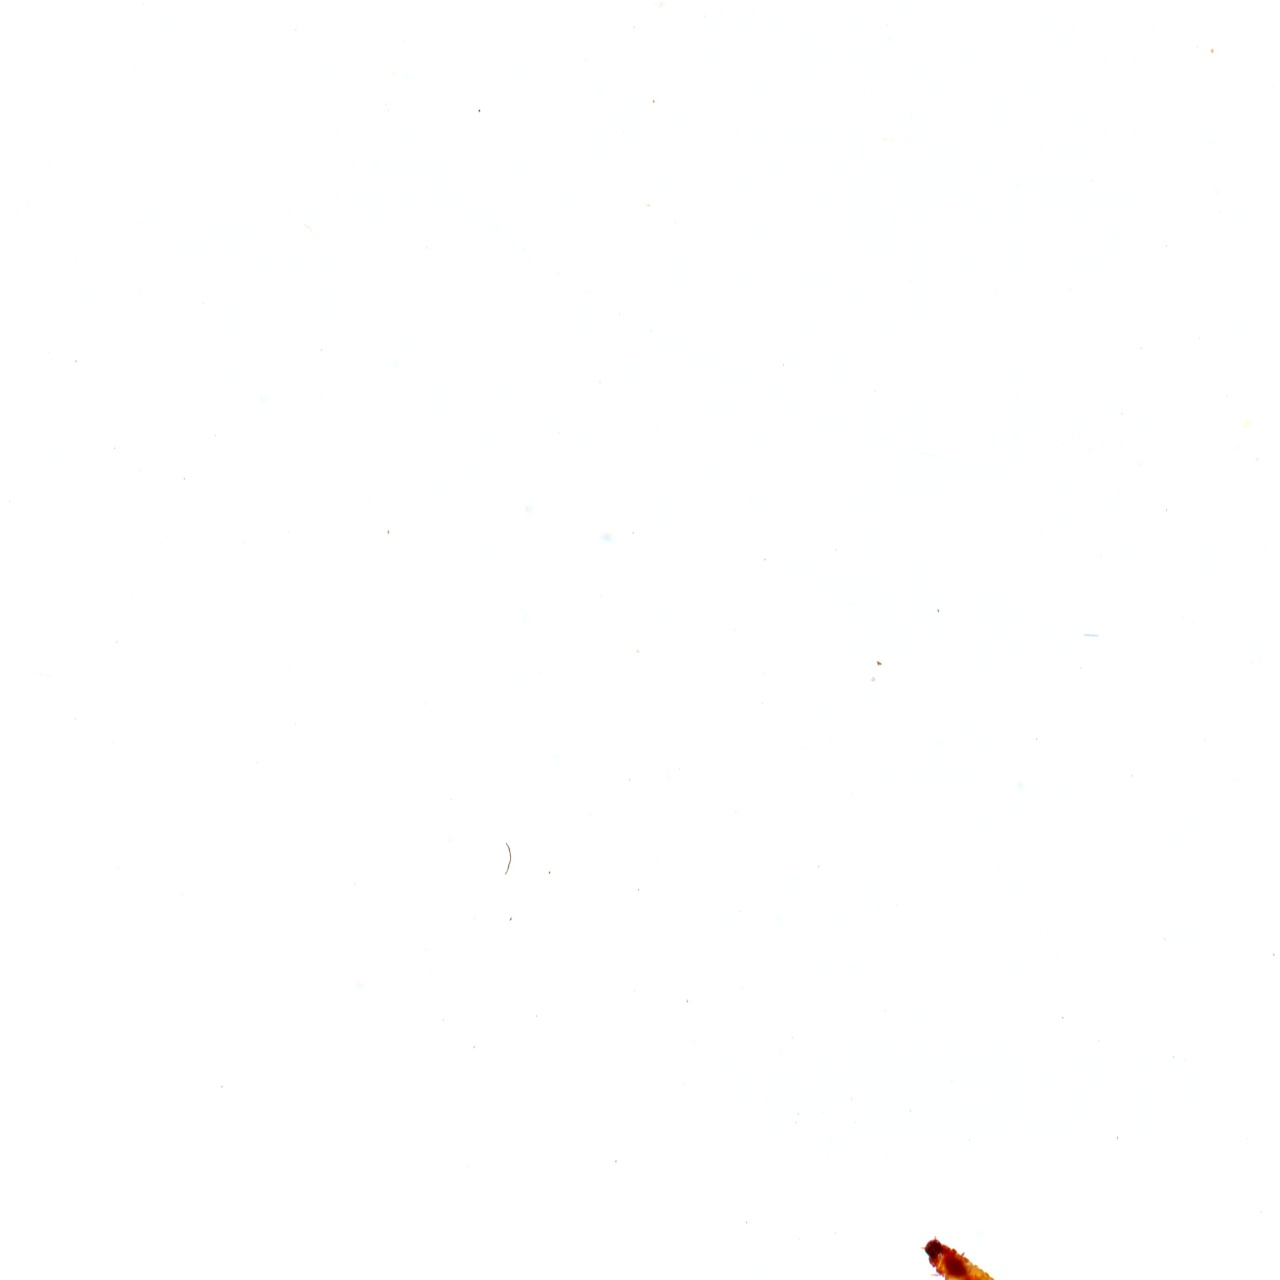arthropod: (908, 1218, 1026, 1280)
